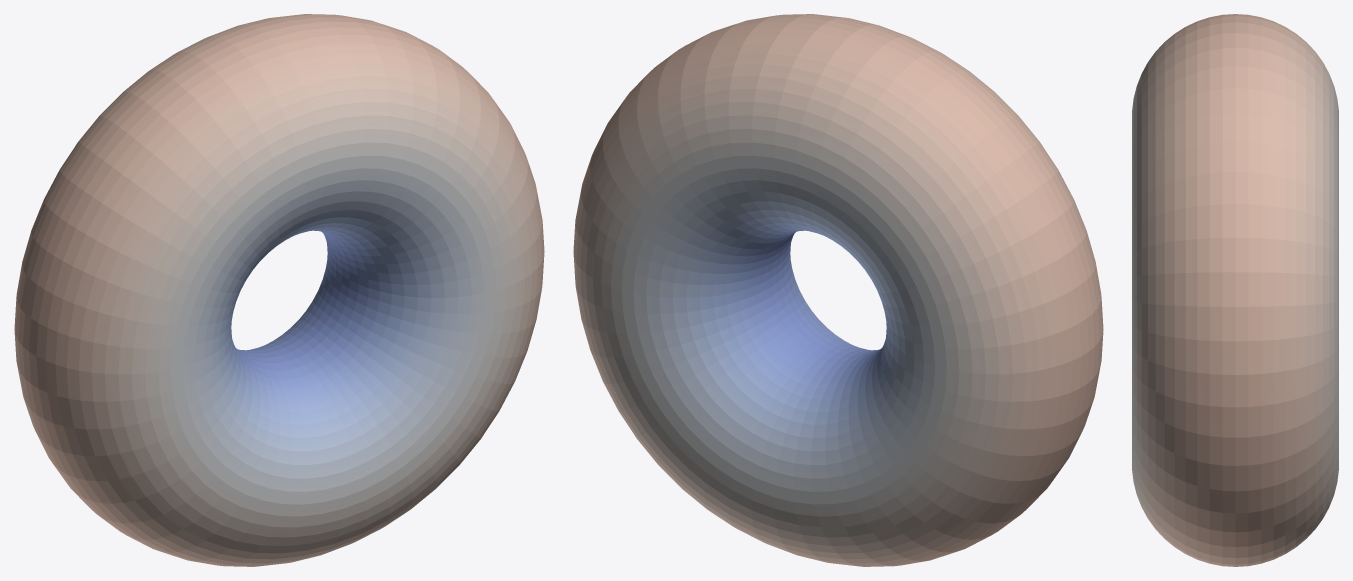
The picture shows the model from 3 angles, left to right: view 1: azimuth 30°, elevation 25°; view 2: azimuth 150°, elevation 25°; view 3: azimuth 270°, elevation 25°; orthographic projection. The views are drawn at different scales.
Parts seen in each view (by area): view 1: world; view 2: world; view 3: world.
Part boxes in pixels (<box>): world: <box>14,14,544,566</box>; world: <box>573,14,1103,566</box>; world: <box>1132,14,1338,566</box>.
Bounding box in the file's own units: 22.4 × 22.36 × 8.38.
